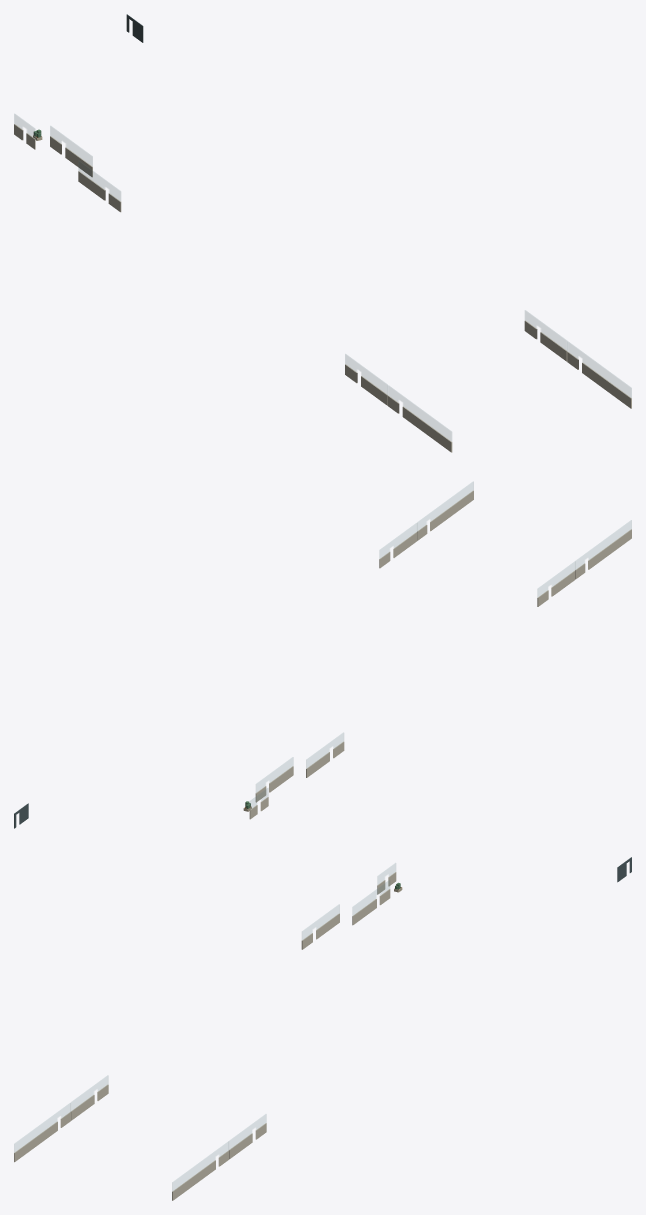
The model's file is D04_PORT_CENTRAL_WEST_STAFF_PATCH_r002.glb.
3 renders of one model, top to bottom at view 1: azimuth 30°, elevation 25°; view 2: azimuth 150°, elevation 25°; view 3: azimuth 330°, elevation 25°, orthographic. The views are drawn at different scales.
Parts seen in each view (by area): view 1: PCK_D04HC5_west_PrivacyScreen, PCK_D04HC5_east_PrivacyScreen, PCK_D04HC5_east_GlassUpper, PCK_D04HC5_west_GlassUpper; view 2: PCK_D04HC5_west_PrivacyScreen, PCK_D04HC5_east_PrivacyScreen, PCK_D04HC5_east_GlassUpper, PCK_D04HC5_west_GlassUpper; view 3: PCK_D04HC5_west_PrivacyScreen, PCK_D04HC5_east_PrivacyScreen, PCK_D04HC5_west_GlassUpper, PCK_D04HC5_east_GlassUpper.
Boxes of the visible parts, x1,y1,x2,y2 form: PCK_D04HC5_west_PrivacyScreen: [387, 395, 452, 452]; PCK_D04HC5_east_PrivacyScreen: [567, 352, 631, 408]; PCK_D04HC5_east_GlassUpper: [567, 342, 631, 397]; PCK_D04HC5_west_GlassUpper: [388, 385, 451, 441]; PCK_D04HC5_west_PrivacyScreen: [575, 529, 631, 579]; PCK_D04HC5_east_PrivacyScreen: [417, 490, 473, 540]; PCK_D04HC5_east_GlassUpper: [417, 482, 473, 530]; PCK_D04HC5_west_GlassUpper: [575, 520, 631, 569]; PCK_D04HC5_west_PrivacyScreen: [14, 1112, 70, 1162]; PCK_D04HC5_east_PrivacyScreen: [172, 1150, 228, 1200]; PCK_D04HC5_west_GlassUpper: [14, 1103, 70, 1152]; PCK_D04HC5_east_GlassUpper: [172, 1141, 228, 1191].
Size of the model in its own units: 38.06 by 3.96 by 177.
6 materials, 4 textured.
